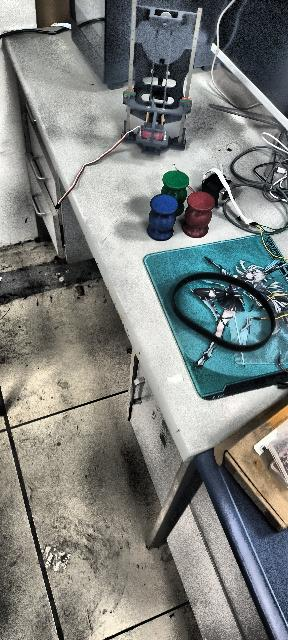blue: (146, 193, 178, 240)
green: (159, 170, 189, 215)
red: (181, 189, 215, 240)
